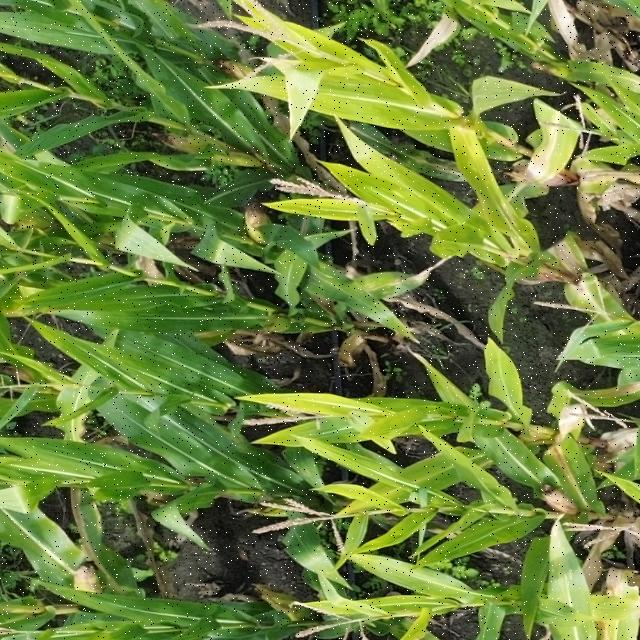gray-leaf-spot: (122, 0, 229, 76), (364, 165, 436, 222)
northern-leaf-blight: (290, 263, 436, 315), (532, 226, 619, 312), (509, 113, 581, 201)
